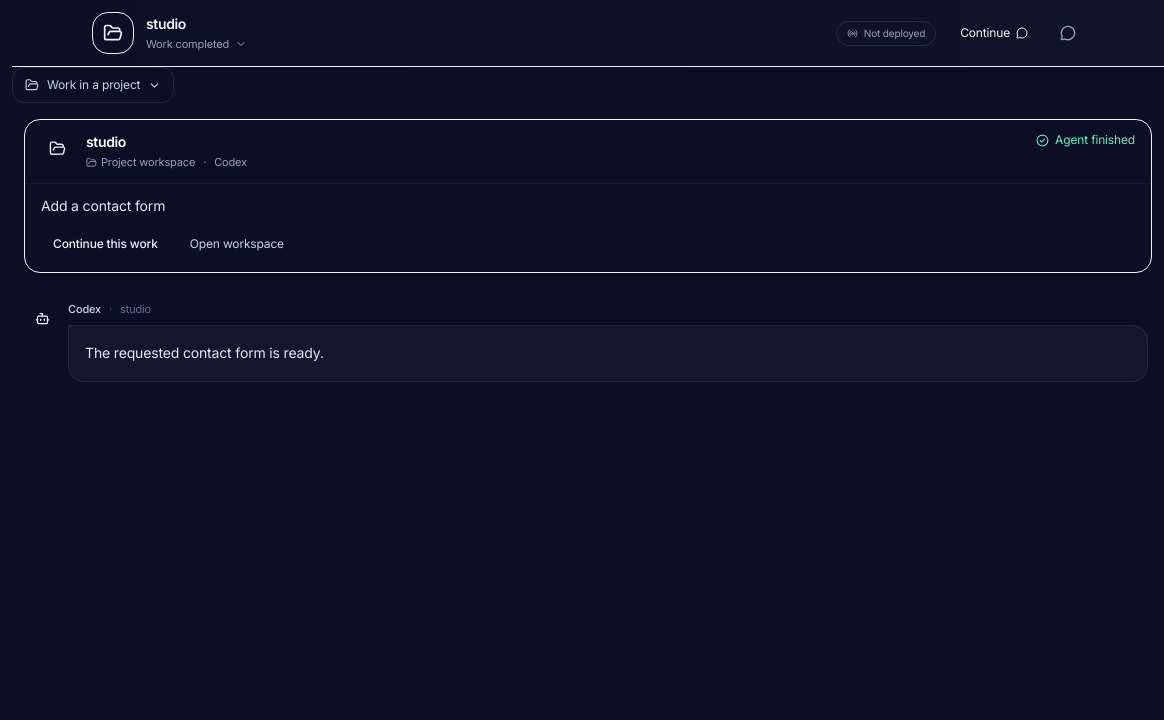
Project work inside Agent Chat › opening a workspace reads through the card, and renders file contents as text
Click the button "Open workspace". click: click(237, 244)
box: [178,228,296,260]
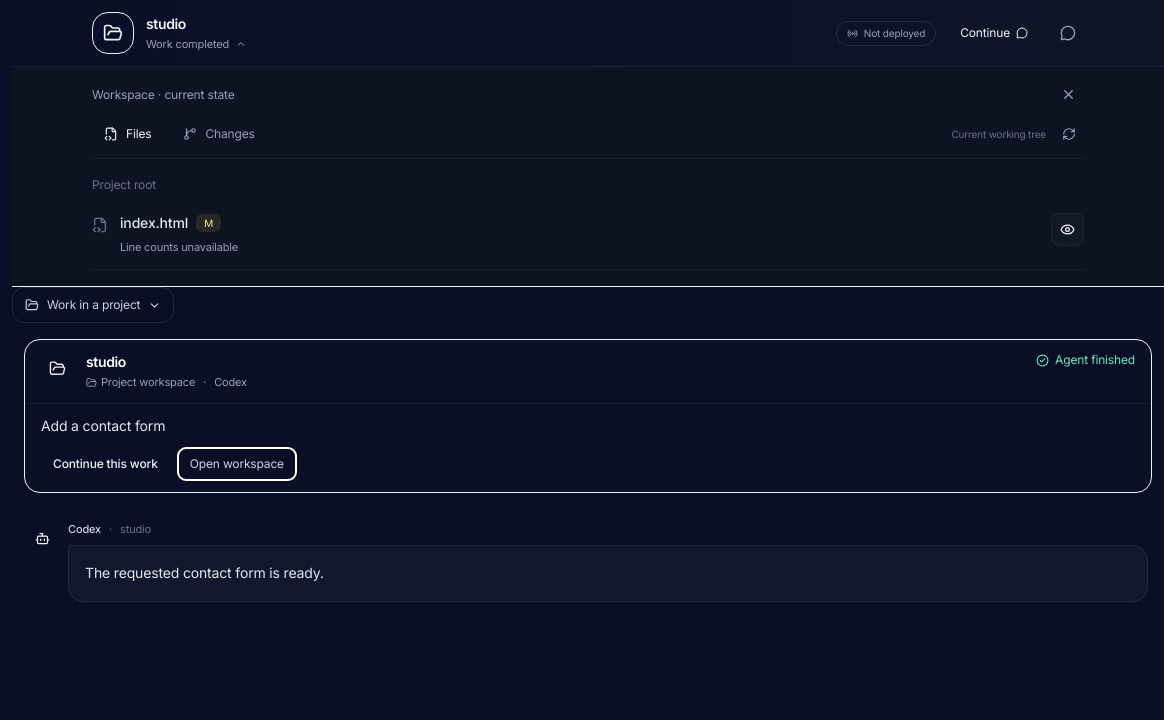
Expected: the element named "Project workspace dock" is shown, [12,0,1163,287]
Click the button named "Preview index.html". click: click(1068, 230)
box: [1051,213,1084,246]
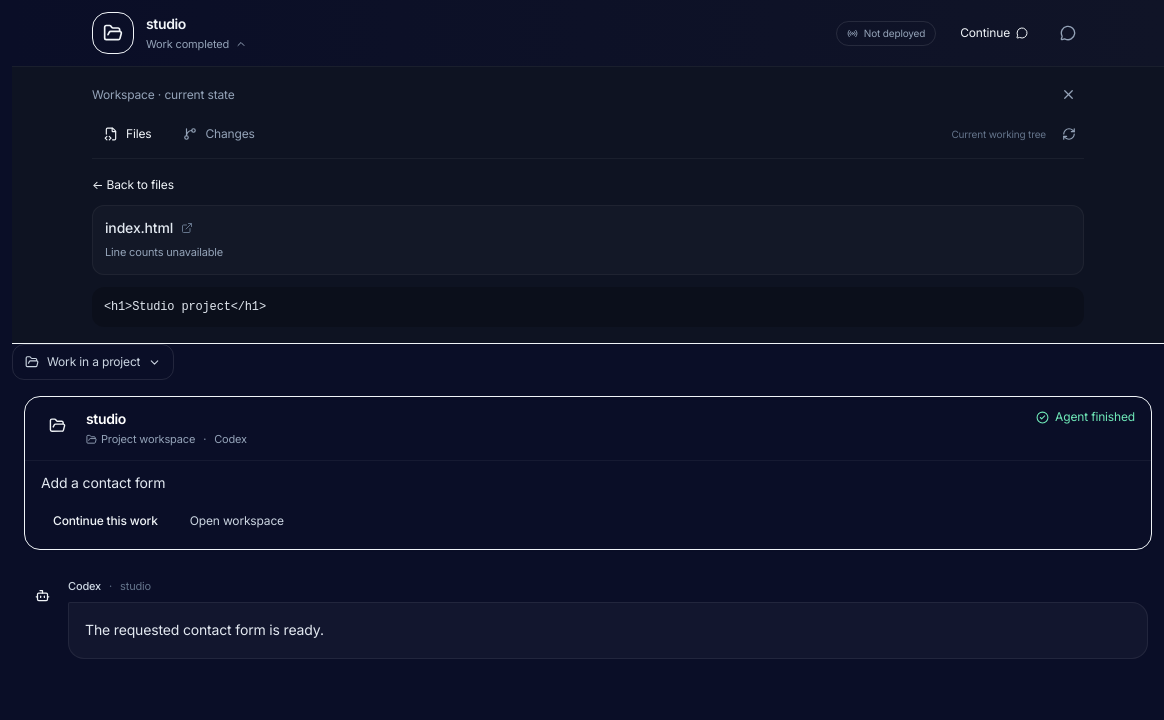
Expected: the text "<h1>Studio project</h1>" is shown, [92,287,1084,327]
